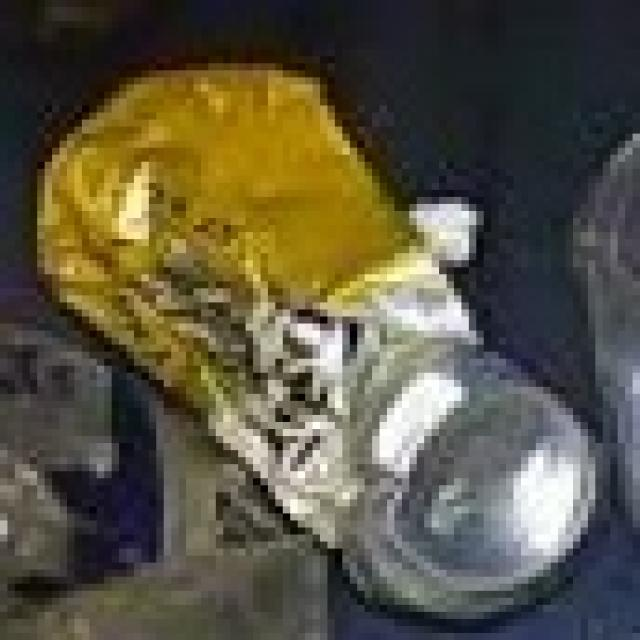litter: (13, 37, 640, 640)
